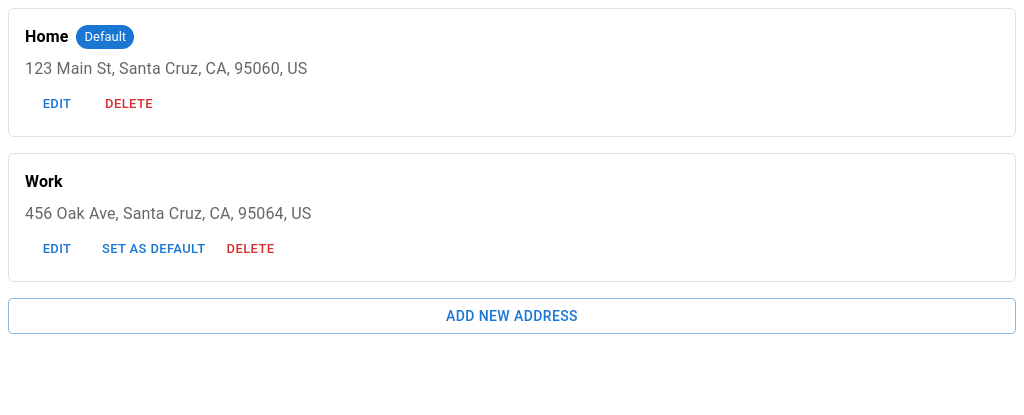
Test: shows an error when set default fails
This screenshot has width=1024, height=415.
Step 1. Click the button "Set as default" → click(154, 249), box [97,234,210,265]
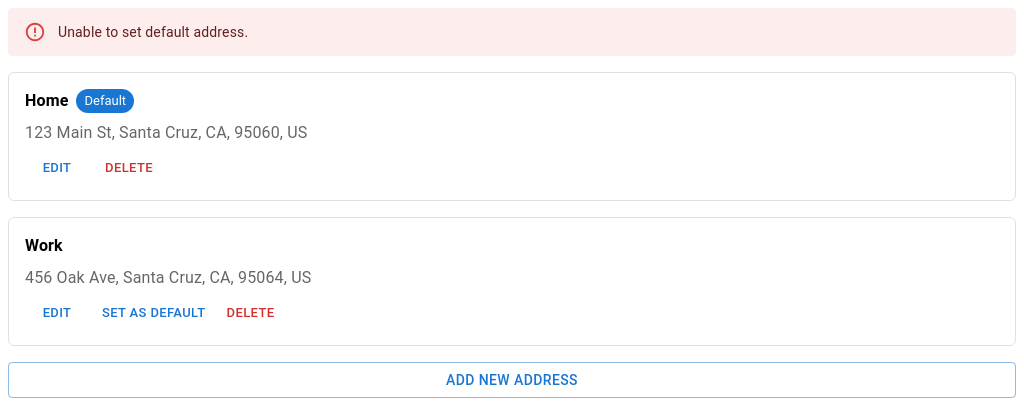
Result: the message reads "Unable to set default address." at [58,24,248,40]
